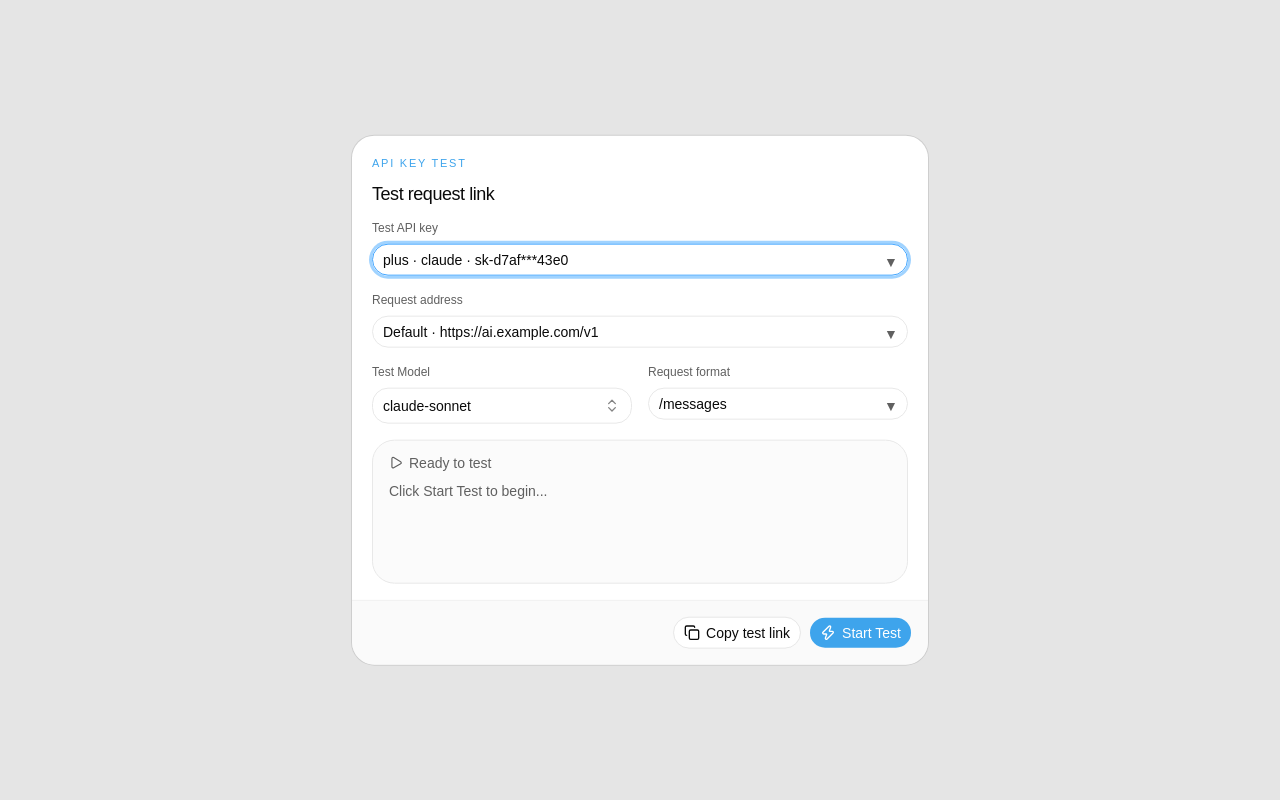
Test case: next test connection dialog › offers /messages for a Claude key and sends that request format
The image size is (1280, 800).
Check: the dropdown named "Request format" shows "/messages", box [648,387,908,419]
Click the button "Start Test": (861, 632) [809,616,912,648]
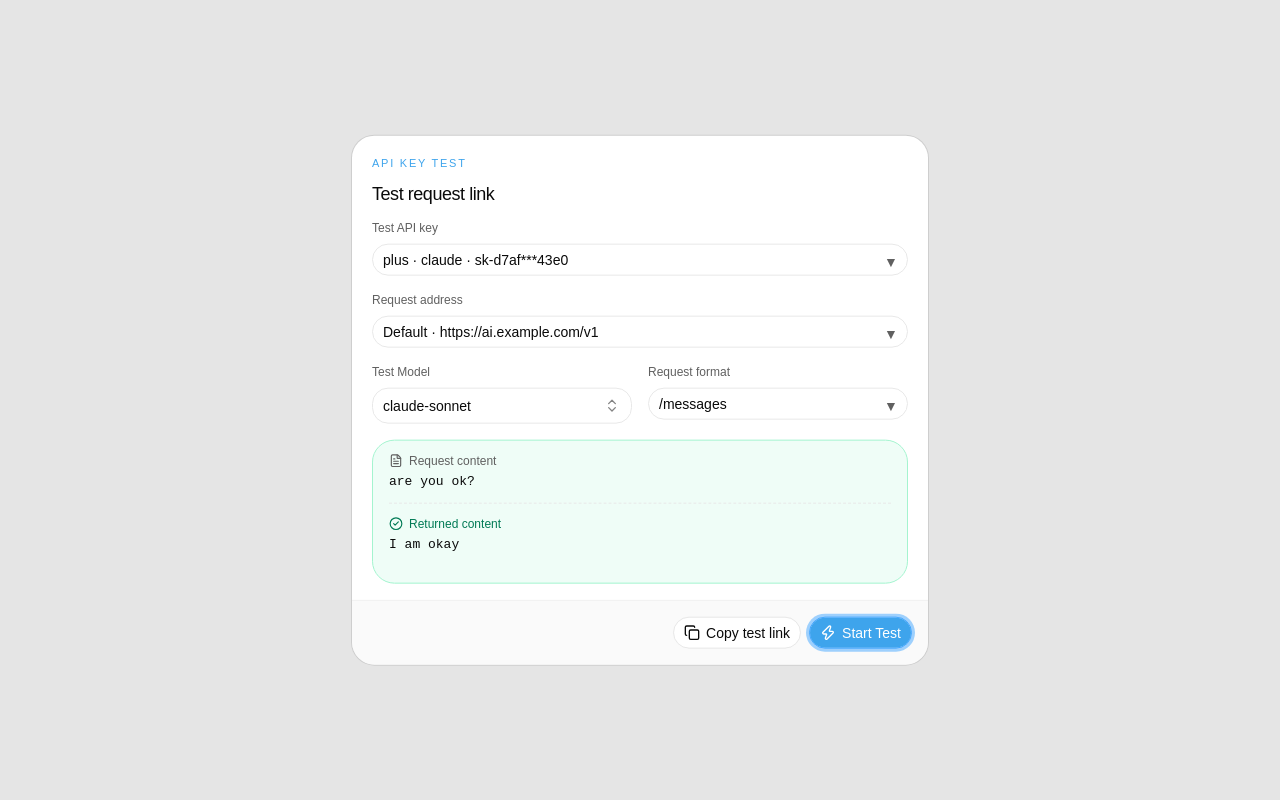
Check: the text "I am okay" is shown, box [389,537,459,552]
